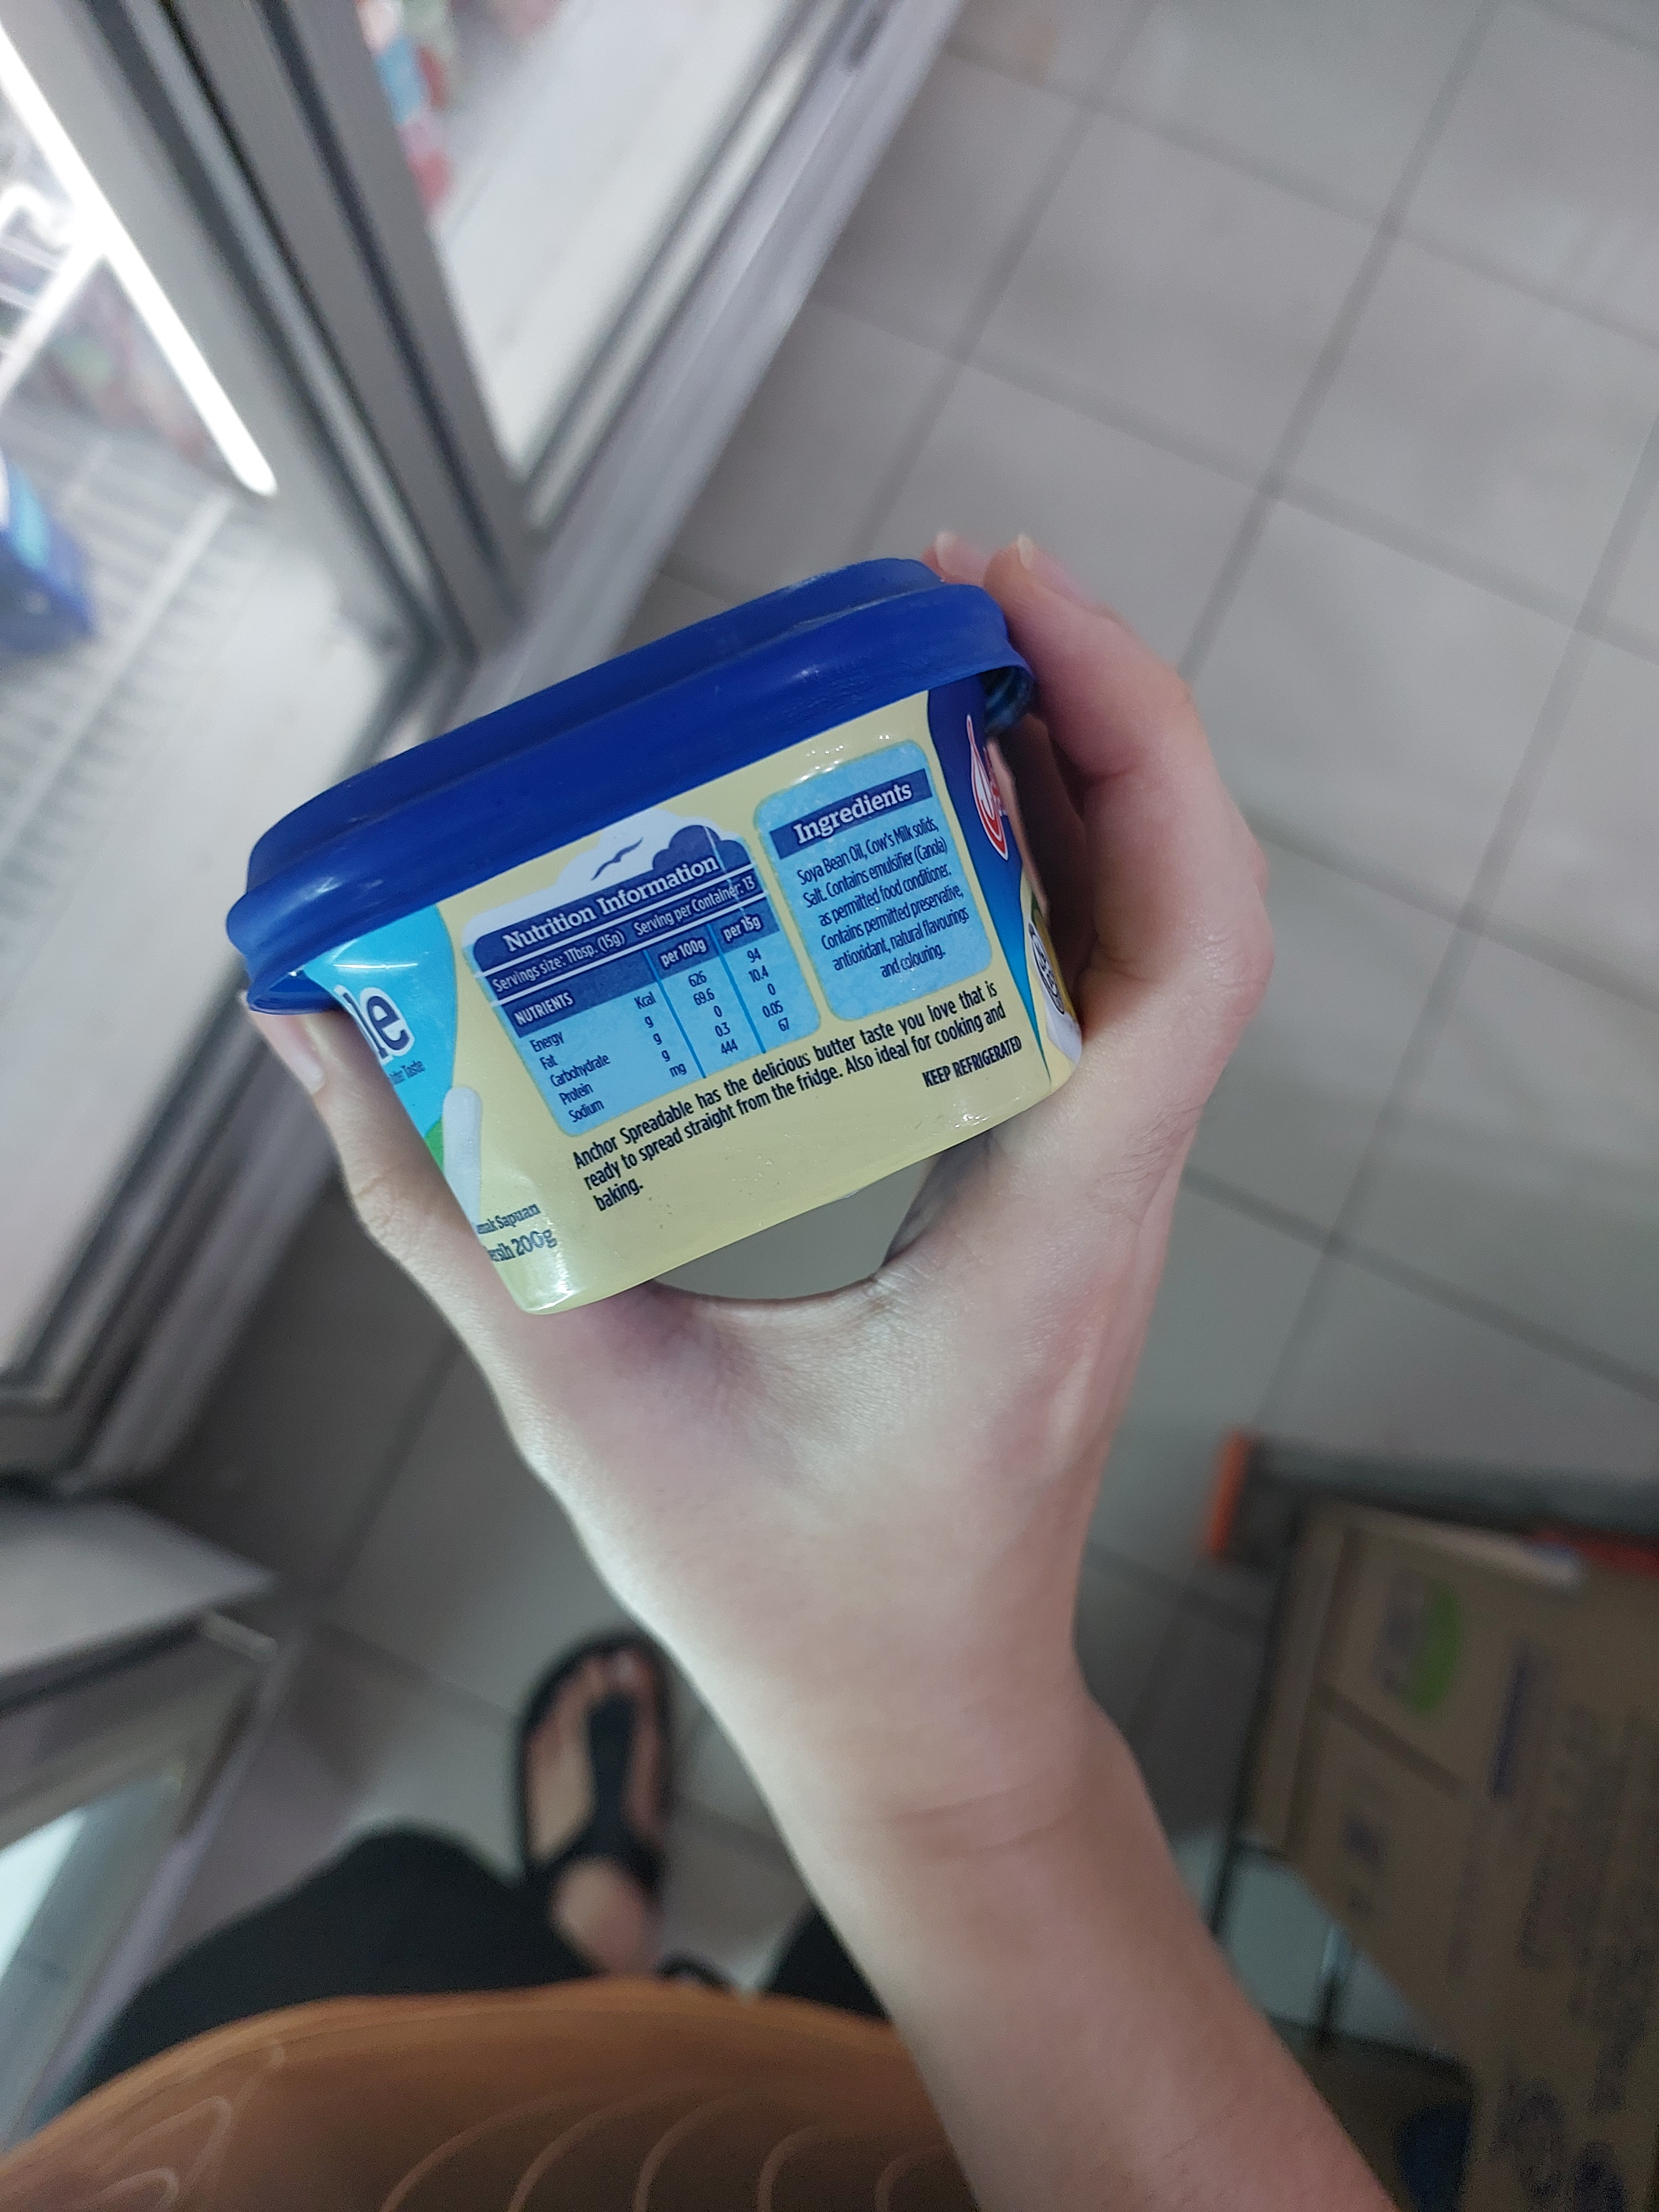butter: (230, 550, 1094, 1322)
